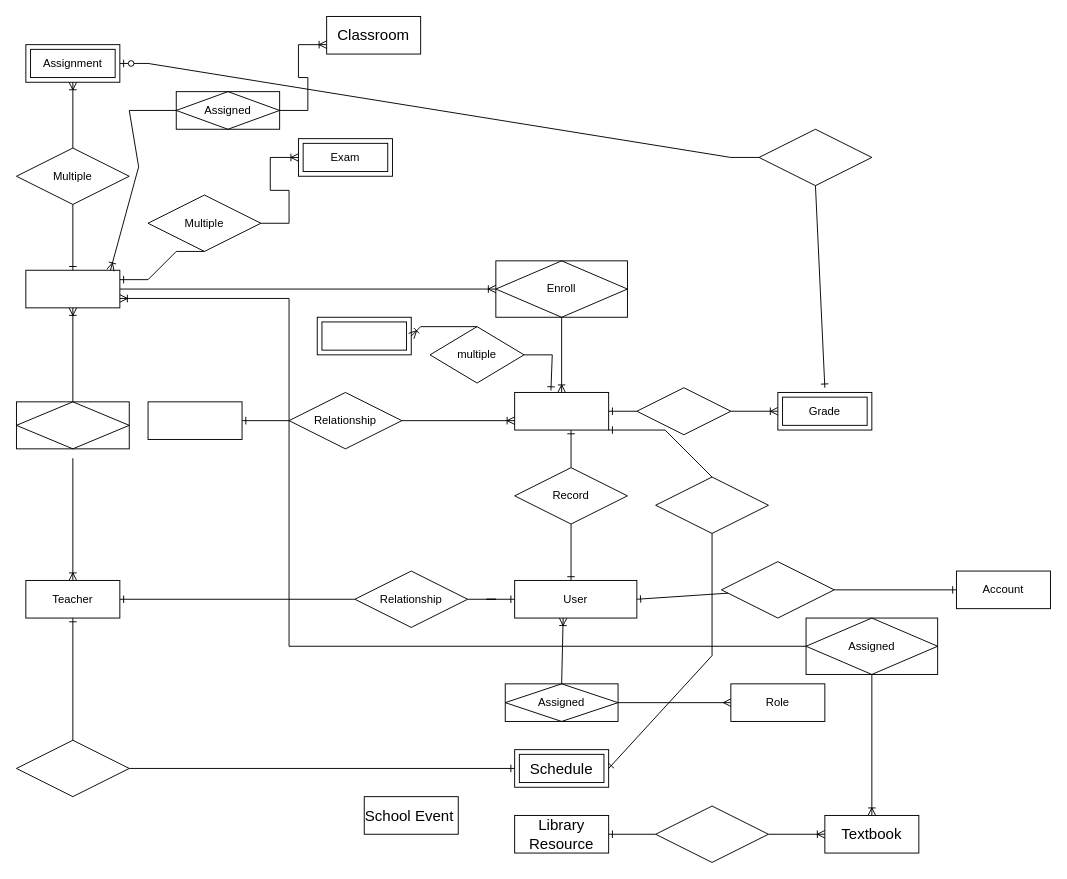
Some shapes in this 1067 by 879 pixel diagram are drawn without their labels. Each missing label, with the box of its shape:
Attendance: (316, 316, 411, 355)
Course: (25, 269, 120, 308)
create: (721, 561, 834, 618)
Have: (636, 387, 731, 435)
have one: (758, 128, 872, 186)
is assigned: (16, 739, 129, 797)
many: (655, 805, 768, 862)
one: (655, 476, 768, 533)
Parent: (147, 401, 242, 439)
Student: (514, 392, 609, 430)
Teach: (16, 401, 129, 449)
